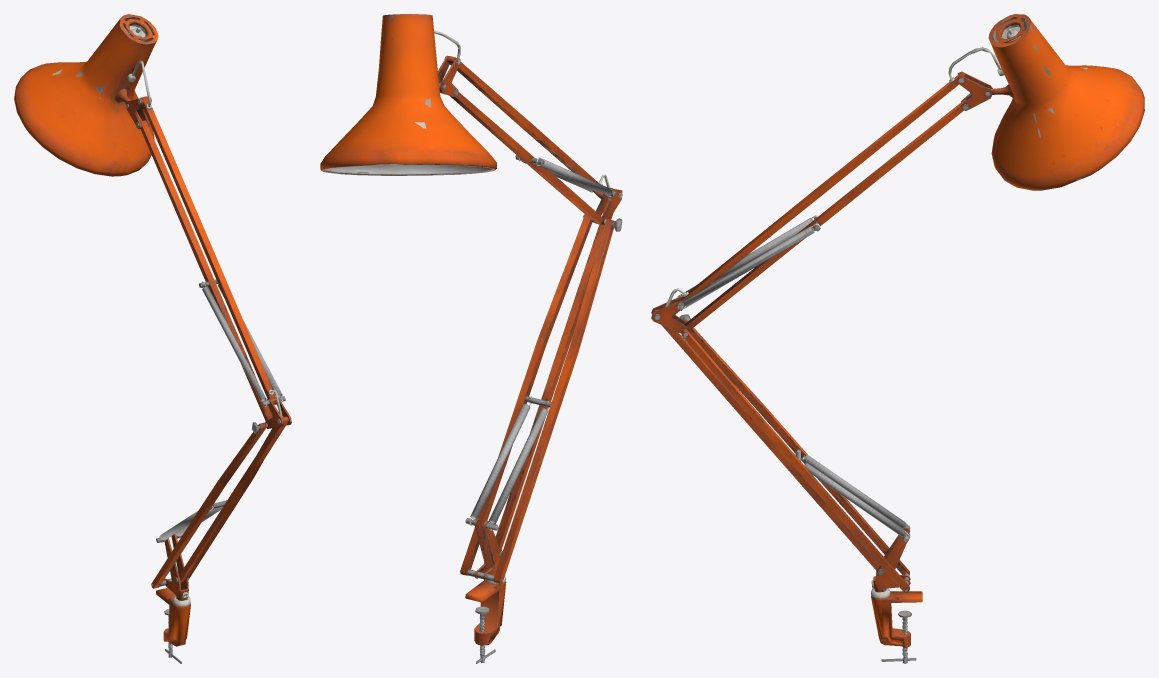
The model's file is desk_lamp.glb.
3 views of the same model, side by side, from view 1: azimuth 30°, elevation 25°; view 2: azimuth 150°, elevation 25°; view 3: azimuth 270°, elevation 25° (orthographic). The views are drawn at different scales.
Visible parts, largest first — view 1: desk_lamp_arm_01; view 2: desk_lamp_arm_01; view 3: desk_lamp_arm_01.
Boxes of the visible parts, x1=… form: desk_lamp_arm_01: x1=14, y1=14, x2=291, y2=663; desk_lamp_arm_01: x1=320, y1=14, x2=622, y2=663; desk_lamp_arm_01: x1=651, y1=14, x2=1144, y2=663.
Bounding box in the file's own units: 0.2017 × 0.8926 × 0.6133.
2 materials, 2 textured.
